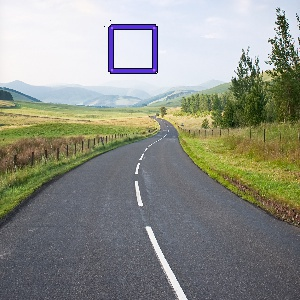square: (107, 23, 159, 75)
